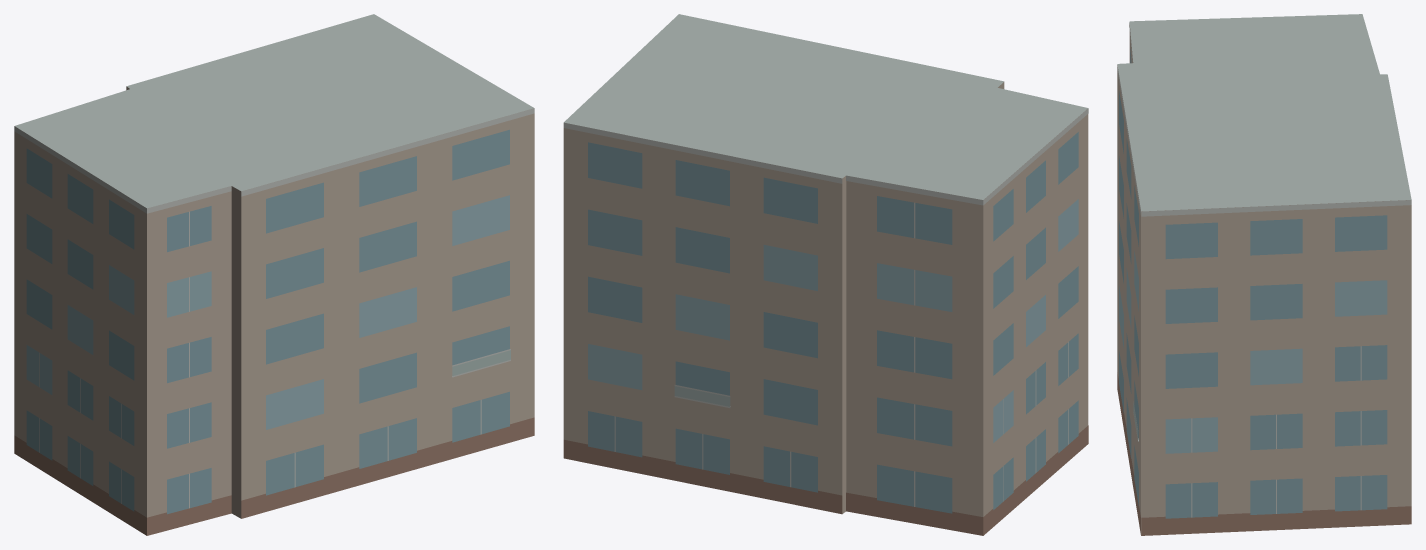
File: survey-upis-32954211.glb
3 renders of one model, left to right at view 1: azimuth 30°, elevation 25°; view 2: azimuth 150°, elevation 25°; view 3: azimuth 270°, elevation 25°, orthographic. The views are drawn at different scales.
Visible parts, largest first — view 1: survey-upis-32954211.tmp; view 2: survey-upis-32954211.tmp; view 3: survey-upis-32954211.tmp.
Part boxes in pixels (x1,y1,x2,y2): survey-upis-32954211.tmp: [14, 14, 534, 535]; survey-upis-32954211.tmp: [563, 14, 1088, 535]; survey-upis-32954211.tmp: [1117, 14, 1411, 535].
Size of the model in its own units: 19.72 by 15.1 by 12.43.
